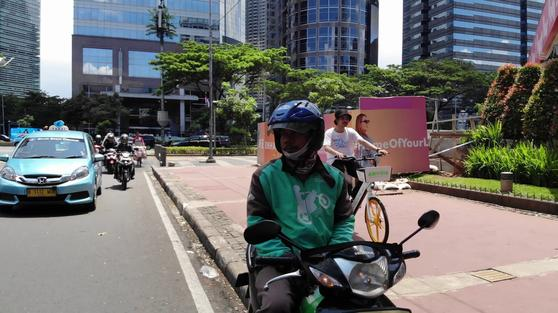bike: (332, 146, 404, 257)
